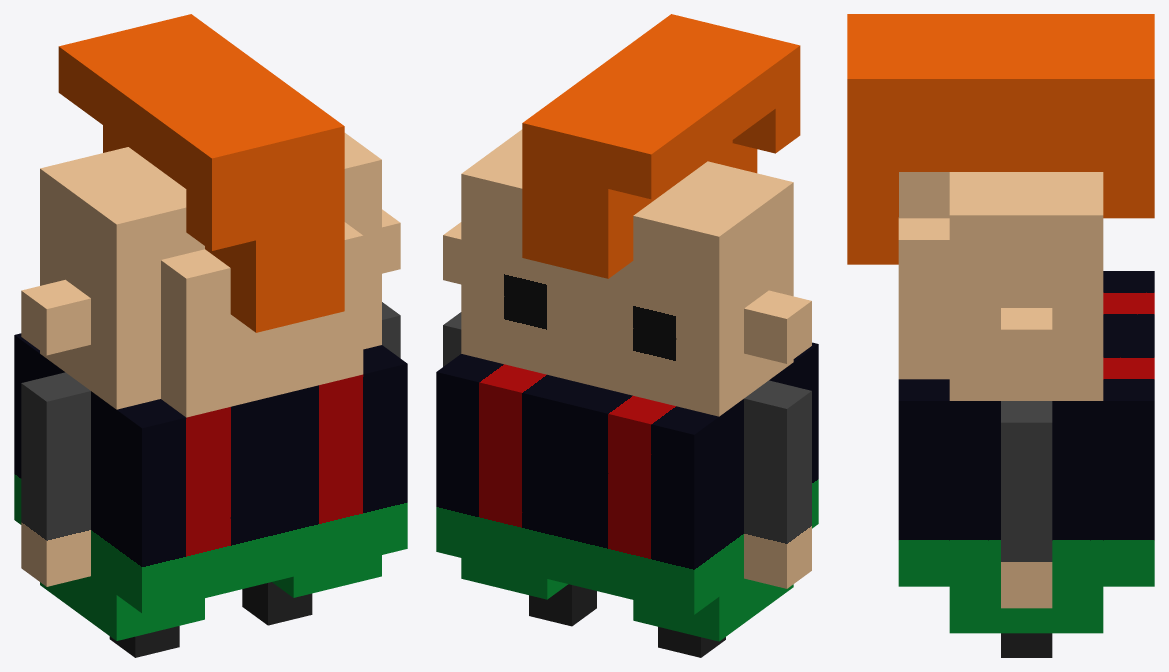
The model's file is chr_punk.fbx.
3 views of the same model, side by side, from view 1: azimuth 30°, elevation 25°; view 2: azimuth 150°, elevation 25°; view 3: azimuth 270°, elevation 25° (orthographic). The views are drawn at different scales.
Visible parts, largest first — view 1: chr_punk; view 2: chr_punk; view 3: chr_punk.
Part boxes in pixels (x1,y1,x2,y2): chr_punk: (14,14,407,657); chr_punk: (436,14,818,657); chr_punk: (847,14,1154,657).
Size of the model in its own units: 0.8 by 0.6 by 1.2.
1 material, 1 textured.
